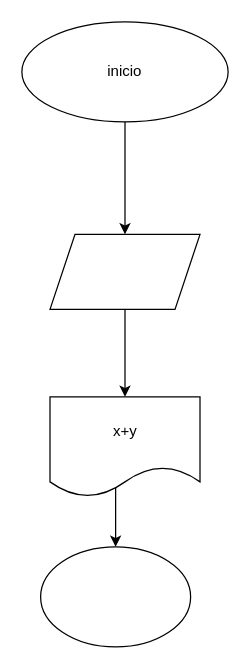
The diagram is 250 pixels wide and 669 high, and some of its shapes have lost their labels. The centre of each missing label's shape, as x and y in pixels:
salir: the point at 115,596
x,y: the point at 124,271
